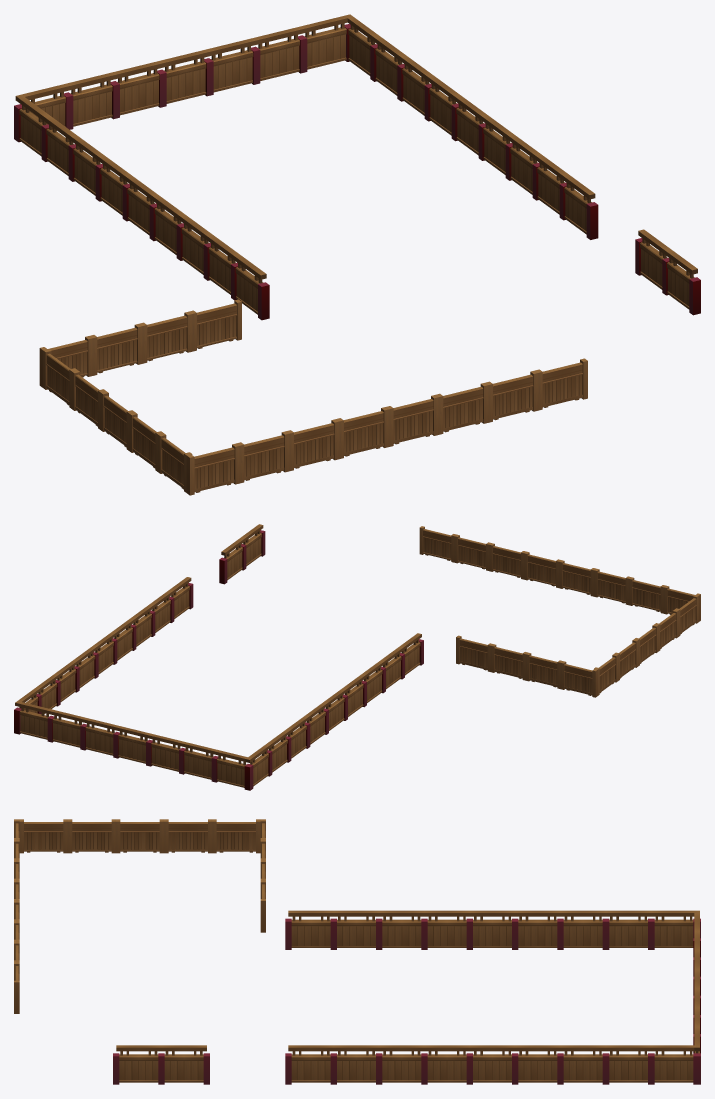
Rendered from SK_WallGroup.FBX.
3 views of the same model, one above another, from view 1: azimuth 30°, elevation 25°; view 2: azimuth 150°, elevation 25°; view 3: azimuth 270°, elevation 25° (orthographic). The views are drawn at different scales.
Visible parts, largest first — view 1: SK_Wall_wood, SK_Wall_001; view 2: SK_Wall_wood, SK_Wall_001; view 3: SK_Wall_wood, SK_Wall_001.
Boxes of the visible parts, bbox=[...] form: SK_Wall_wood: bbox=[15, 14, 697, 495]; SK_Wall_001: bbox=[14, 24, 700, 320]; SK_Wall_wood: bbox=[15, 524, 700, 787]; SK_Wall_001: bbox=[14, 530, 423, 790]; SK_Wall_wood: bbox=[14, 819, 699, 1082]; SK_Wall_001: bbox=[113, 918, 700, 1084].
Bounding box in the file's own units: 1980 × 144 × 2463.
